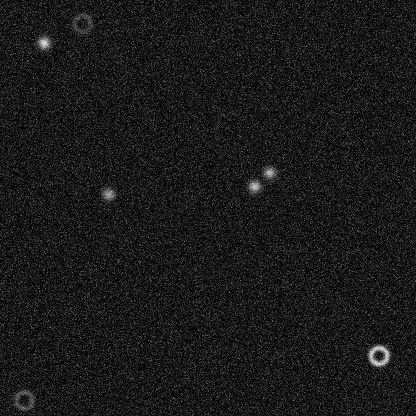Ring: (11, 388, 35, 412), (366, 343, 390, 367), (70, 11, 94, 35)
Spot: (35, 34, 51, 50), (261, 164, 277, 180), (246, 178, 262, 194), (100, 185, 116, 201)
